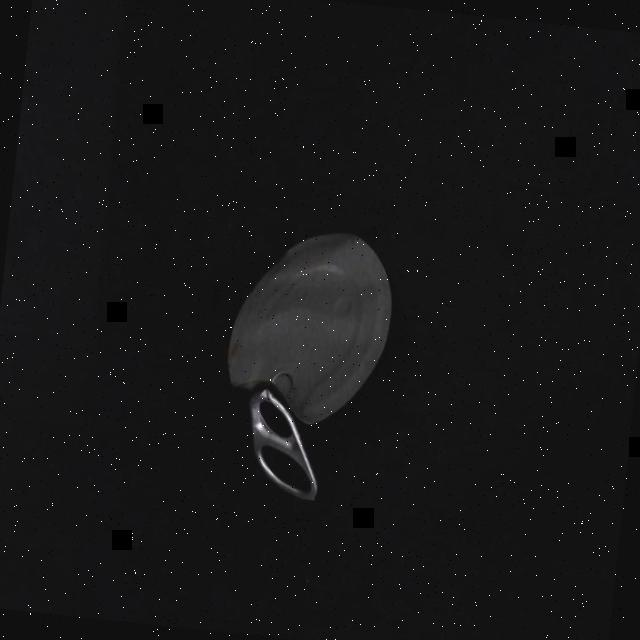can: (208, 218, 405, 508)
